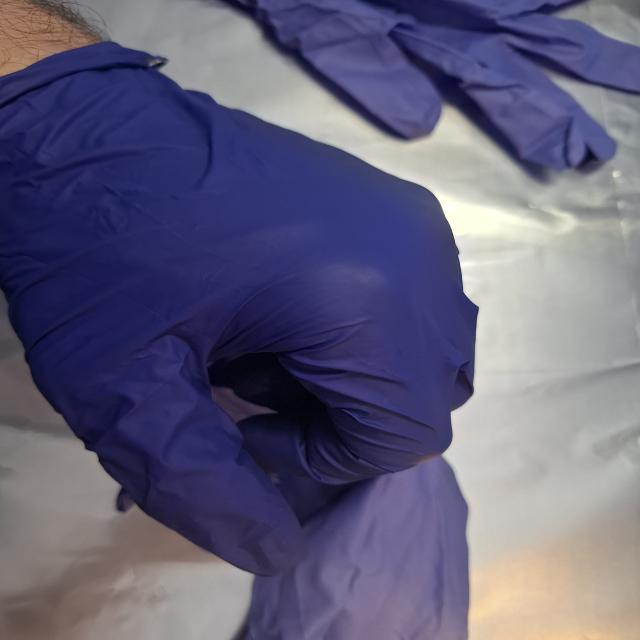glove_on: (0, 37, 481, 581)
